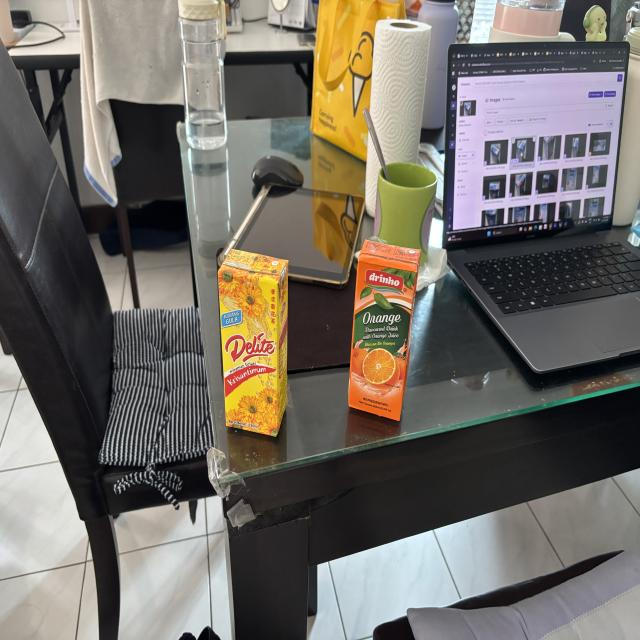drink_carton: (213, 238, 295, 445), (342, 230, 424, 433)
